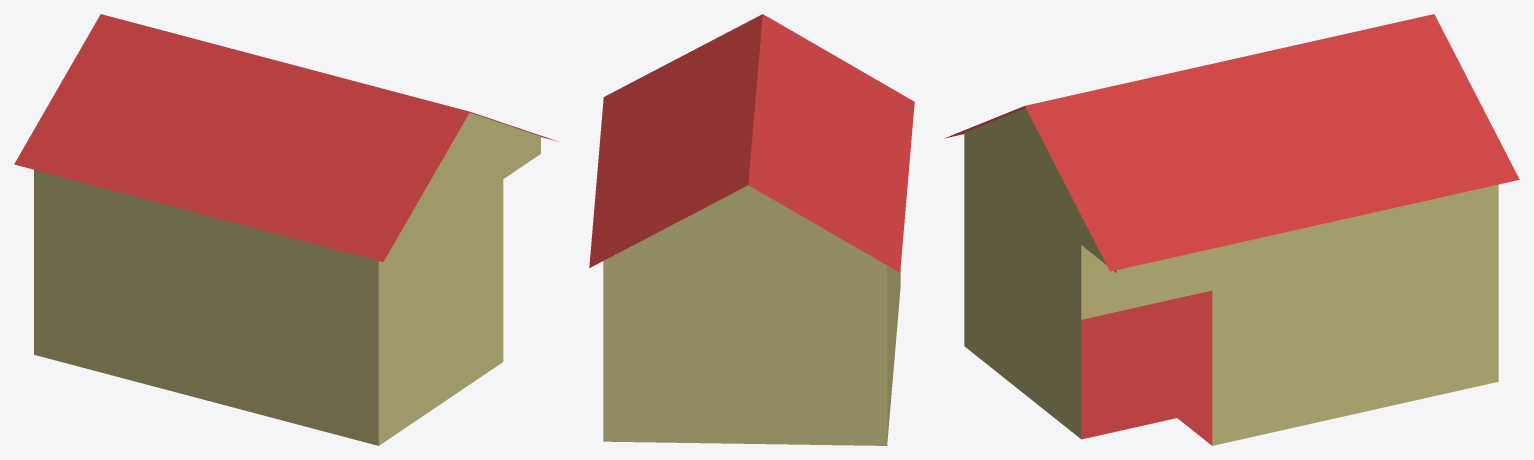
3 views of the same model, side by side, from view 1: azimuth 30°, elevation 25°; view 2: azimuth 150°, elevation 25°; view 3: azimuth 270°, elevation 25° (orthographic). The views are drawn at different scales.
Bounding box in the file's own units: 17.13 × 18.57 × 10.75.
